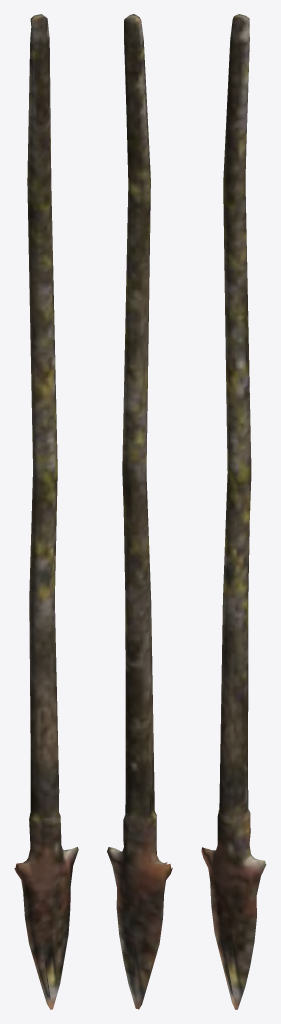
The model's file is Valley_Spear-transformed.glb.
3 views of the same model, side by side, from view 1: azimuth 30°, elevation 25°; view 2: azimuth 150°, elevation 25°; view 3: azimuth 330°, elevation 25° (orthographic).
Visible parts, largest first — view 1: default; view 2: default; view 3: default.
Part boxes in pixels (x1,y1,x2,y2): default: (14, 14, 78, 1009); default: (107, 14, 172, 1009); default: (201, 14, 266, 1009).
Size of the model in its own units: 0.1558 by 2.31 by 0.0789.
Materials: 1 (1 with a texture image).
